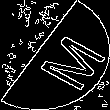M_NW: (14, 22, 96, 88)
